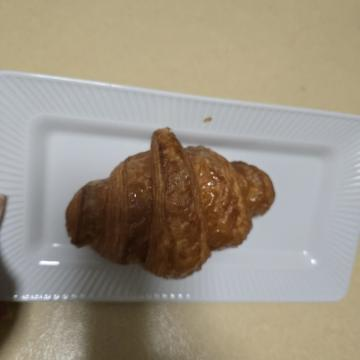croissant: (124, 72, 288, 304)
